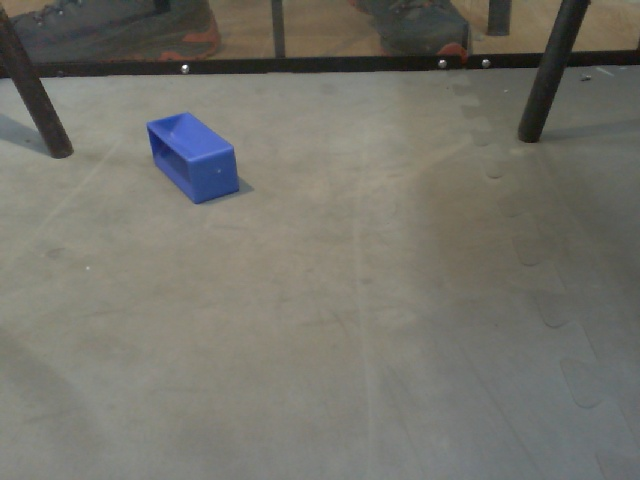BlueSample: (143, 111, 243, 208)
